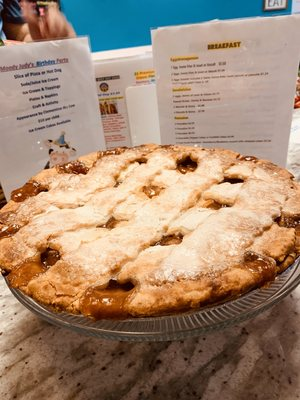pasta: (151, 14, 300, 171), (0, 36, 107, 204)
sandwich: (1, 143, 300, 320)
sushi: (0, 142, 299, 320)
